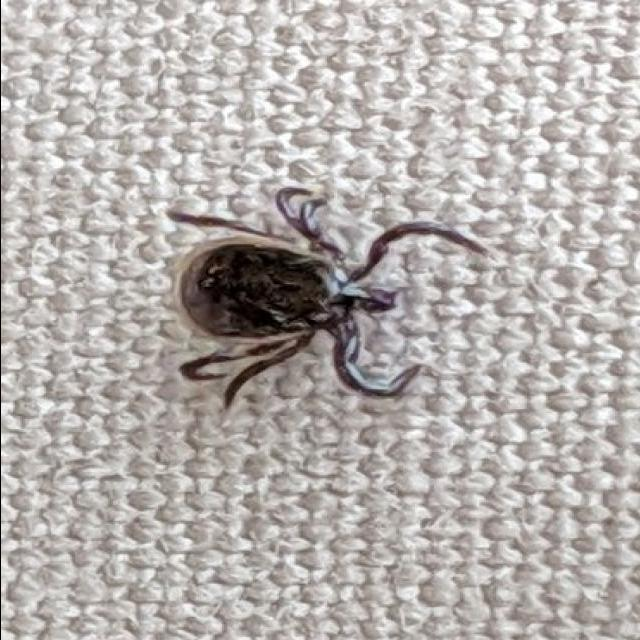Ixodes Ricinus-M: (162, 181, 485, 410)
